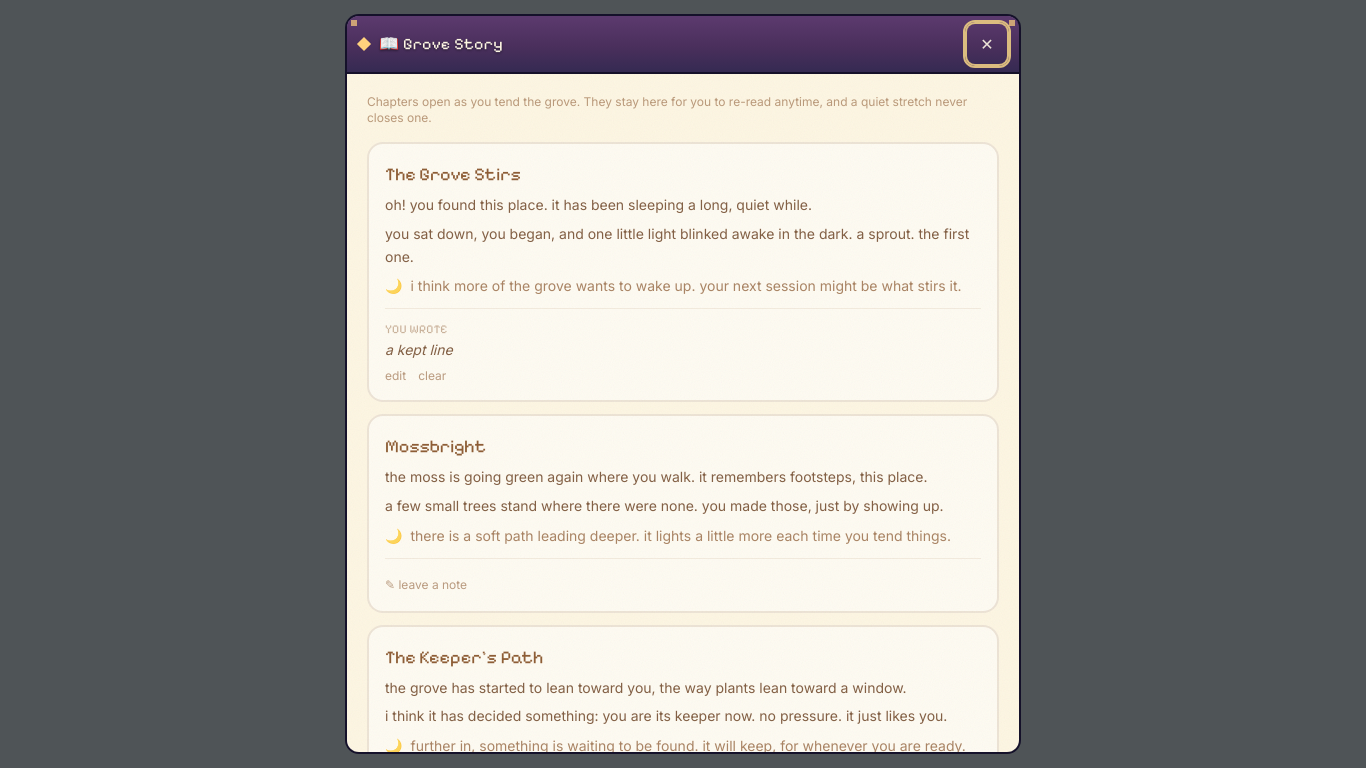
Test: StoryModal › can clear a note again
Expected: the text "a kept line" is shown, [385, 341, 453, 358]
Click the button "clear" at (432, 376), box [418, 368, 446, 384]
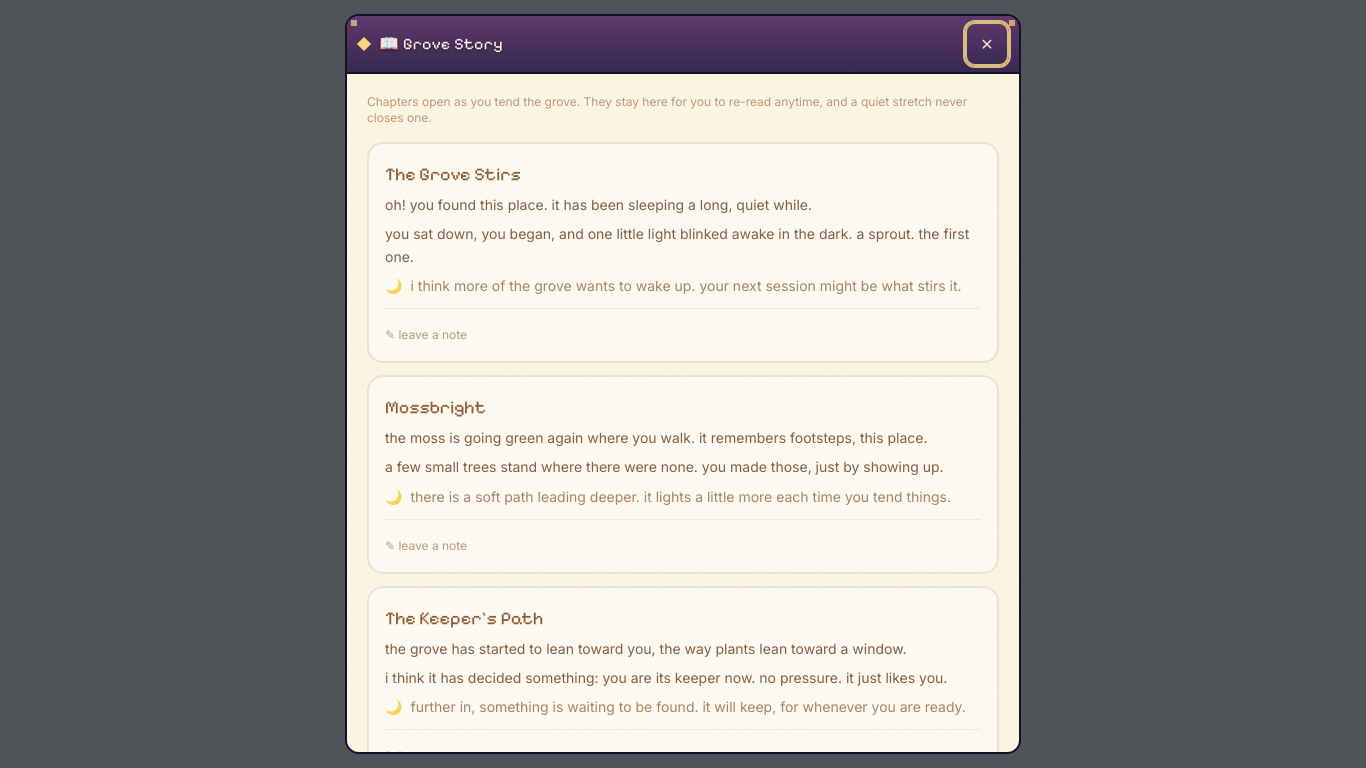
Result: the text "a kept line" is gone
